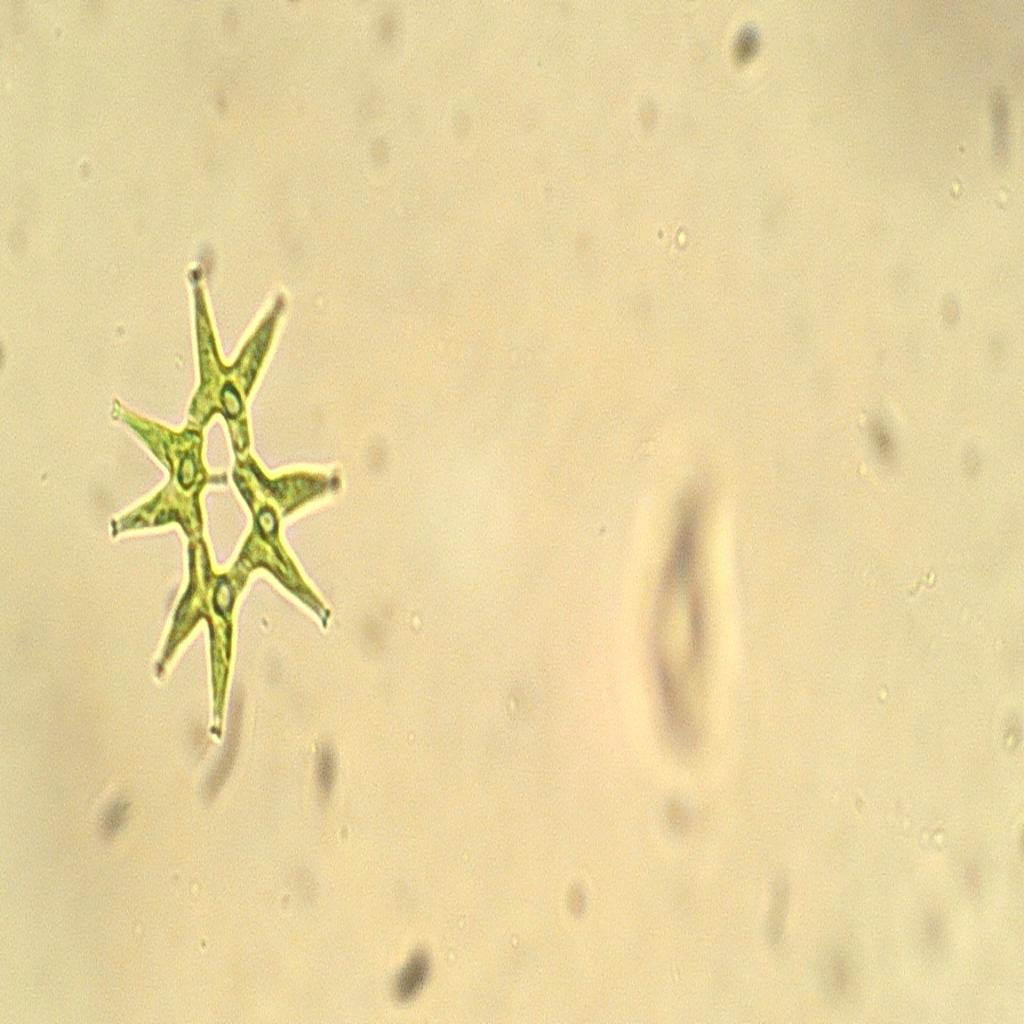Pediastrum_CF: (95, 235, 357, 764)
